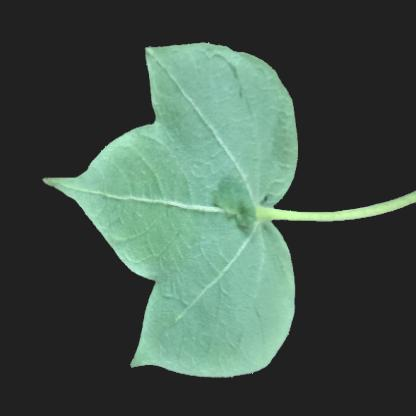curl_stage2: (158, 249, 285, 368), (157, 71, 276, 159), (106, 159, 206, 246)
leaf_enation: (211, 172, 273, 246)
